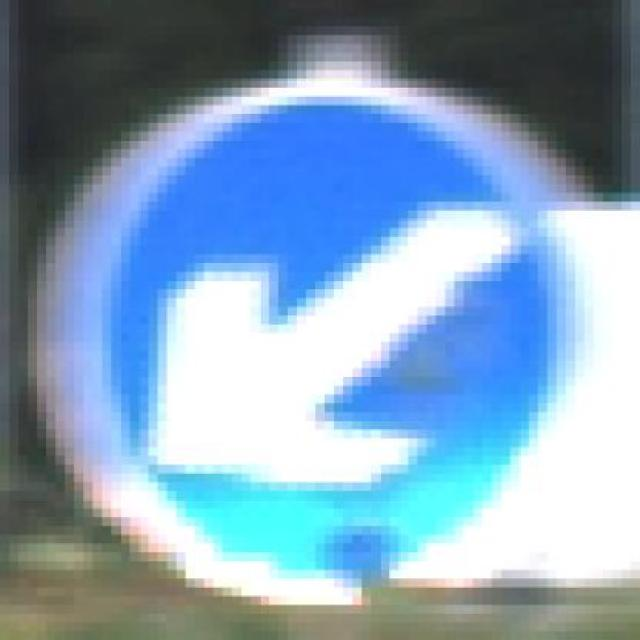Keep-Left: (55, 61, 603, 632)
